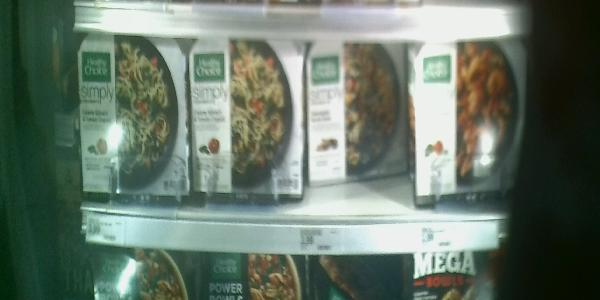pizza1: (411, 39, 530, 211), (77, 33, 190, 199), (192, 34, 303, 202), (306, 37, 408, 204)
